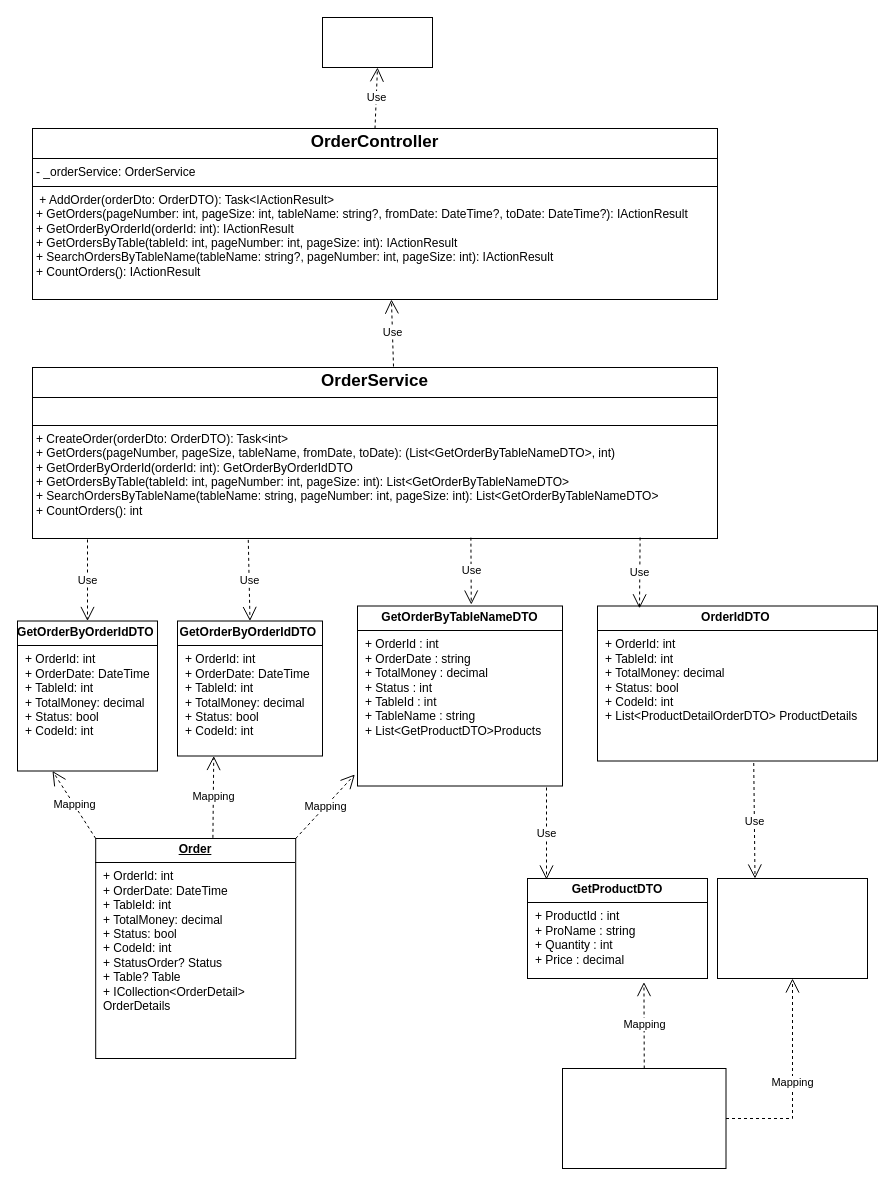
Some shapes in this 895 by 1186 pixel diagram are drawn without their labels. Here are the shapes that lost their labels. From the top down, the centre of each, then its label:
At point 377,42: "«interface» Order Management".
At point 792,928: "ProductDetailOrderDTO + ProId : int + Quantity : int + Price : decimal".
At point 644,1118: "Product + ProductId: int + ProName: string + Quantity: int + Price: decimal".
